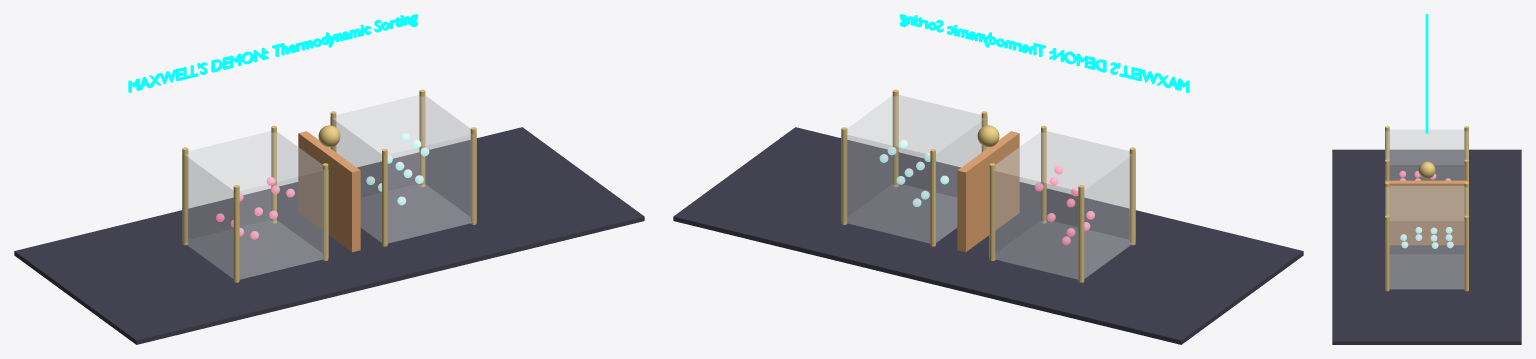
Rendered from maxwell_demon.glb.
3 views of the same model, side by side, from view 1: azimuth 30°, elevation 25°; view 2: azimuth 150°, elevation 25°; view 3: azimuth 270°, elevation 25° (orthographic). The views are drawn at different scales.
Visible parts, largest first — view 1: Cube, Cube.001, Cube.002, Cube.003, Text, Cylinder.001, Cylinder, Cylinder.002, Cylinder.006, Cylinder.007, Cylinder.004, Cylinder.003; view 2: Cube, Cube.001, Cube.002, Cube.003, Text, Cylinder, Cylinder.001, Cylinder.003, Cylinder.007, Cylinder.006, Cylinder.005, Cylinder.002; view 3: Cube, Cube.002, Cube.003, Cube.001, Text, Cylinder.006, Cylinder.007, Sphere, Cylinder, Cylinder.001, Cylinder.004, Cylinder.005.
Boxes of the visible parts, bbox=[...] form: Cube: bbox=[14, 127, 644, 344]; Cube.001: bbox=[182, 131, 328, 280]; Cube.002: bbox=[330, 95, 476, 243]; Cube.003: bbox=[298, 131, 360, 252]; Text: bbox=[128, 14, 418, 92]; Cylinder.001: bbox=[182, 147, 188, 245]; Cylinder: bbox=[233, 185, 239, 282]; Cylinder.002: bbox=[322, 163, 328, 260]; Cylinder.006: bbox=[470, 127, 476, 224]; Cylinder.007: bbox=[419, 89, 425, 187]; Cylinder.004: bbox=[382, 149, 387, 246]; Cylinder.003: bbox=[271, 125, 276, 223]; Cube: bbox=[673, 127, 1303, 344]; Cube.001: bbox=[989, 131, 1135, 280]; Cube.002: bbox=[841, 95, 987, 243]; Cube.003: bbox=[957, 131, 1019, 252]; Text: bbox=[899, 14, 1189, 92]; Cylinder: bbox=[1129, 147, 1135, 245]; Cylinder.001: bbox=[1078, 185, 1084, 282]; Cylinder.003: bbox=[989, 163, 995, 260]; Cylinder.007: bbox=[841, 127, 847, 224]; Cylinder.006: bbox=[892, 89, 898, 187]; Cylinder.005: bbox=[930, 149, 935, 246]; Cylinder.002: bbox=[1041, 125, 1046, 223]; Cube: bbox=[1332, 149, 1521, 344]; Cube.002: bbox=[1385, 185, 1468, 289]; Cube.003: bbox=[1385, 180, 1468, 245]; Cube.001: bbox=[1385, 129, 1468, 180]; Text: bbox=[1425, 14, 1428, 133]; Cylinder.006: bbox=[1385, 215, 1389, 291]; Cylinder.007: bbox=[1464, 215, 1468, 291]; Sphere: bbox=[1418, 161, 1435, 178]; Cylinder: bbox=[1385, 126, 1389, 160]; Cylinder.001: bbox=[1464, 126, 1468, 160]; Cylinder.004: bbox=[1385, 182, 1389, 216]; Cylinder.005: bbox=[1464, 182, 1468, 216].
Bounding box in the file's own units: 24 × 9.32 × 10.
